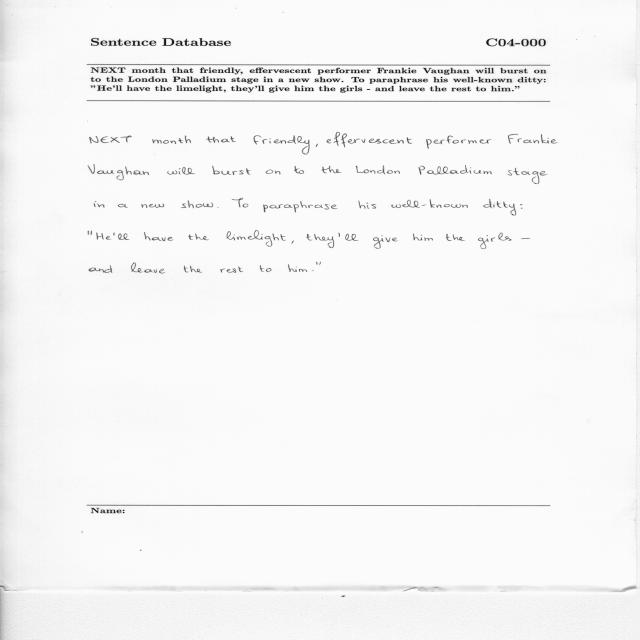word: (327, 133, 412, 148), (254, 135, 310, 155), (226, 230, 286, 247), (88, 165, 149, 181), (426, 136, 492, 149), (263, 201, 338, 212), (419, 165, 492, 175), (391, 199, 468, 208), (507, 168, 548, 184), (483, 199, 516, 216), (478, 233, 511, 249), (508, 134, 558, 144), (356, 165, 400, 175), (306, 234, 334, 248), (131, 263, 165, 274), (212, 166, 251, 175), (373, 235, 398, 249), (90, 136, 132, 144), (152, 136, 191, 144), (144, 232, 174, 241), (181, 201, 213, 209), (167, 167, 195, 175), (206, 136, 236, 143), (89, 265, 112, 273), (339, 233, 359, 241), (413, 233, 433, 241), (288, 264, 307, 272), (321, 166, 342, 173), (232, 198, 248, 207), (359, 201, 376, 209), (113, 232, 130, 240), (446, 234, 465, 241), (221, 267, 243, 273), (188, 234, 209, 240), (184, 266, 202, 273), (141, 203, 164, 208), (97, 233, 112, 240), (260, 265, 272, 272), (294, 166, 304, 174), (94, 201, 105, 208), (266, 170, 281, 175), (118, 204, 128, 208), (88, 230, 92, 235), (316, 262, 321, 265), (520, 204, 522, 209), (291, 241, 294, 244), (521, 238, 530, 239), (316, 144, 318, 147), (217, 207, 219, 208), (312, 270, 314, 271)
